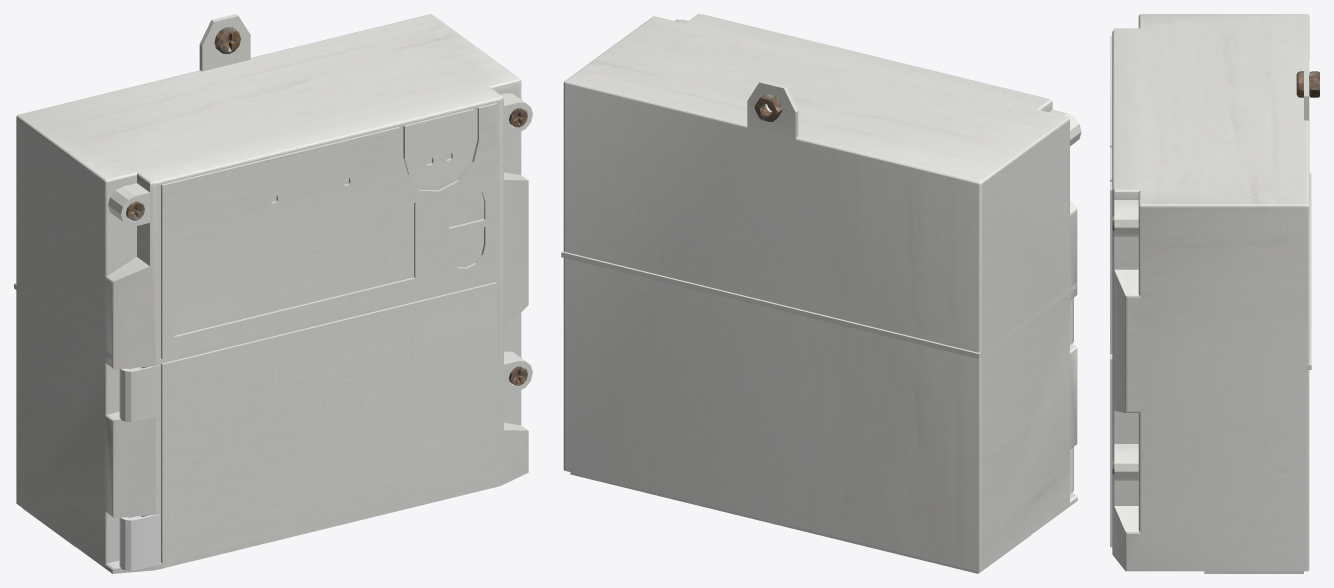
Rendered from OutdoorUnit_Window_001.fbx.
The picture shows the model from 3 angles, left to right: view 1: azimuth 30°, elevation 25°; view 2: azimuth 150°, elevation 25°; view 3: azimuth 270°, elevation 25°; orthographic projection. The views are drawn at different scales.
Visible parts, largest first — view 1: OutdoorUnit_Window_001; view 2: OutdoorUnit_Window_001; view 3: OutdoorUnit_Window_001.
Part boxes in pixels (x1,y1,x2,y2): OutdoorUnit_Window_001: (14, 14, 532, 573); OutdoorUnit_Window_001: (561, 14, 1081, 573); OutdoorUnit_Window_001: (1110, 14, 1319, 573).
Bounding box in the file's own units: 22.81 × 23 × 10.54.
1 material, 1 textured.
